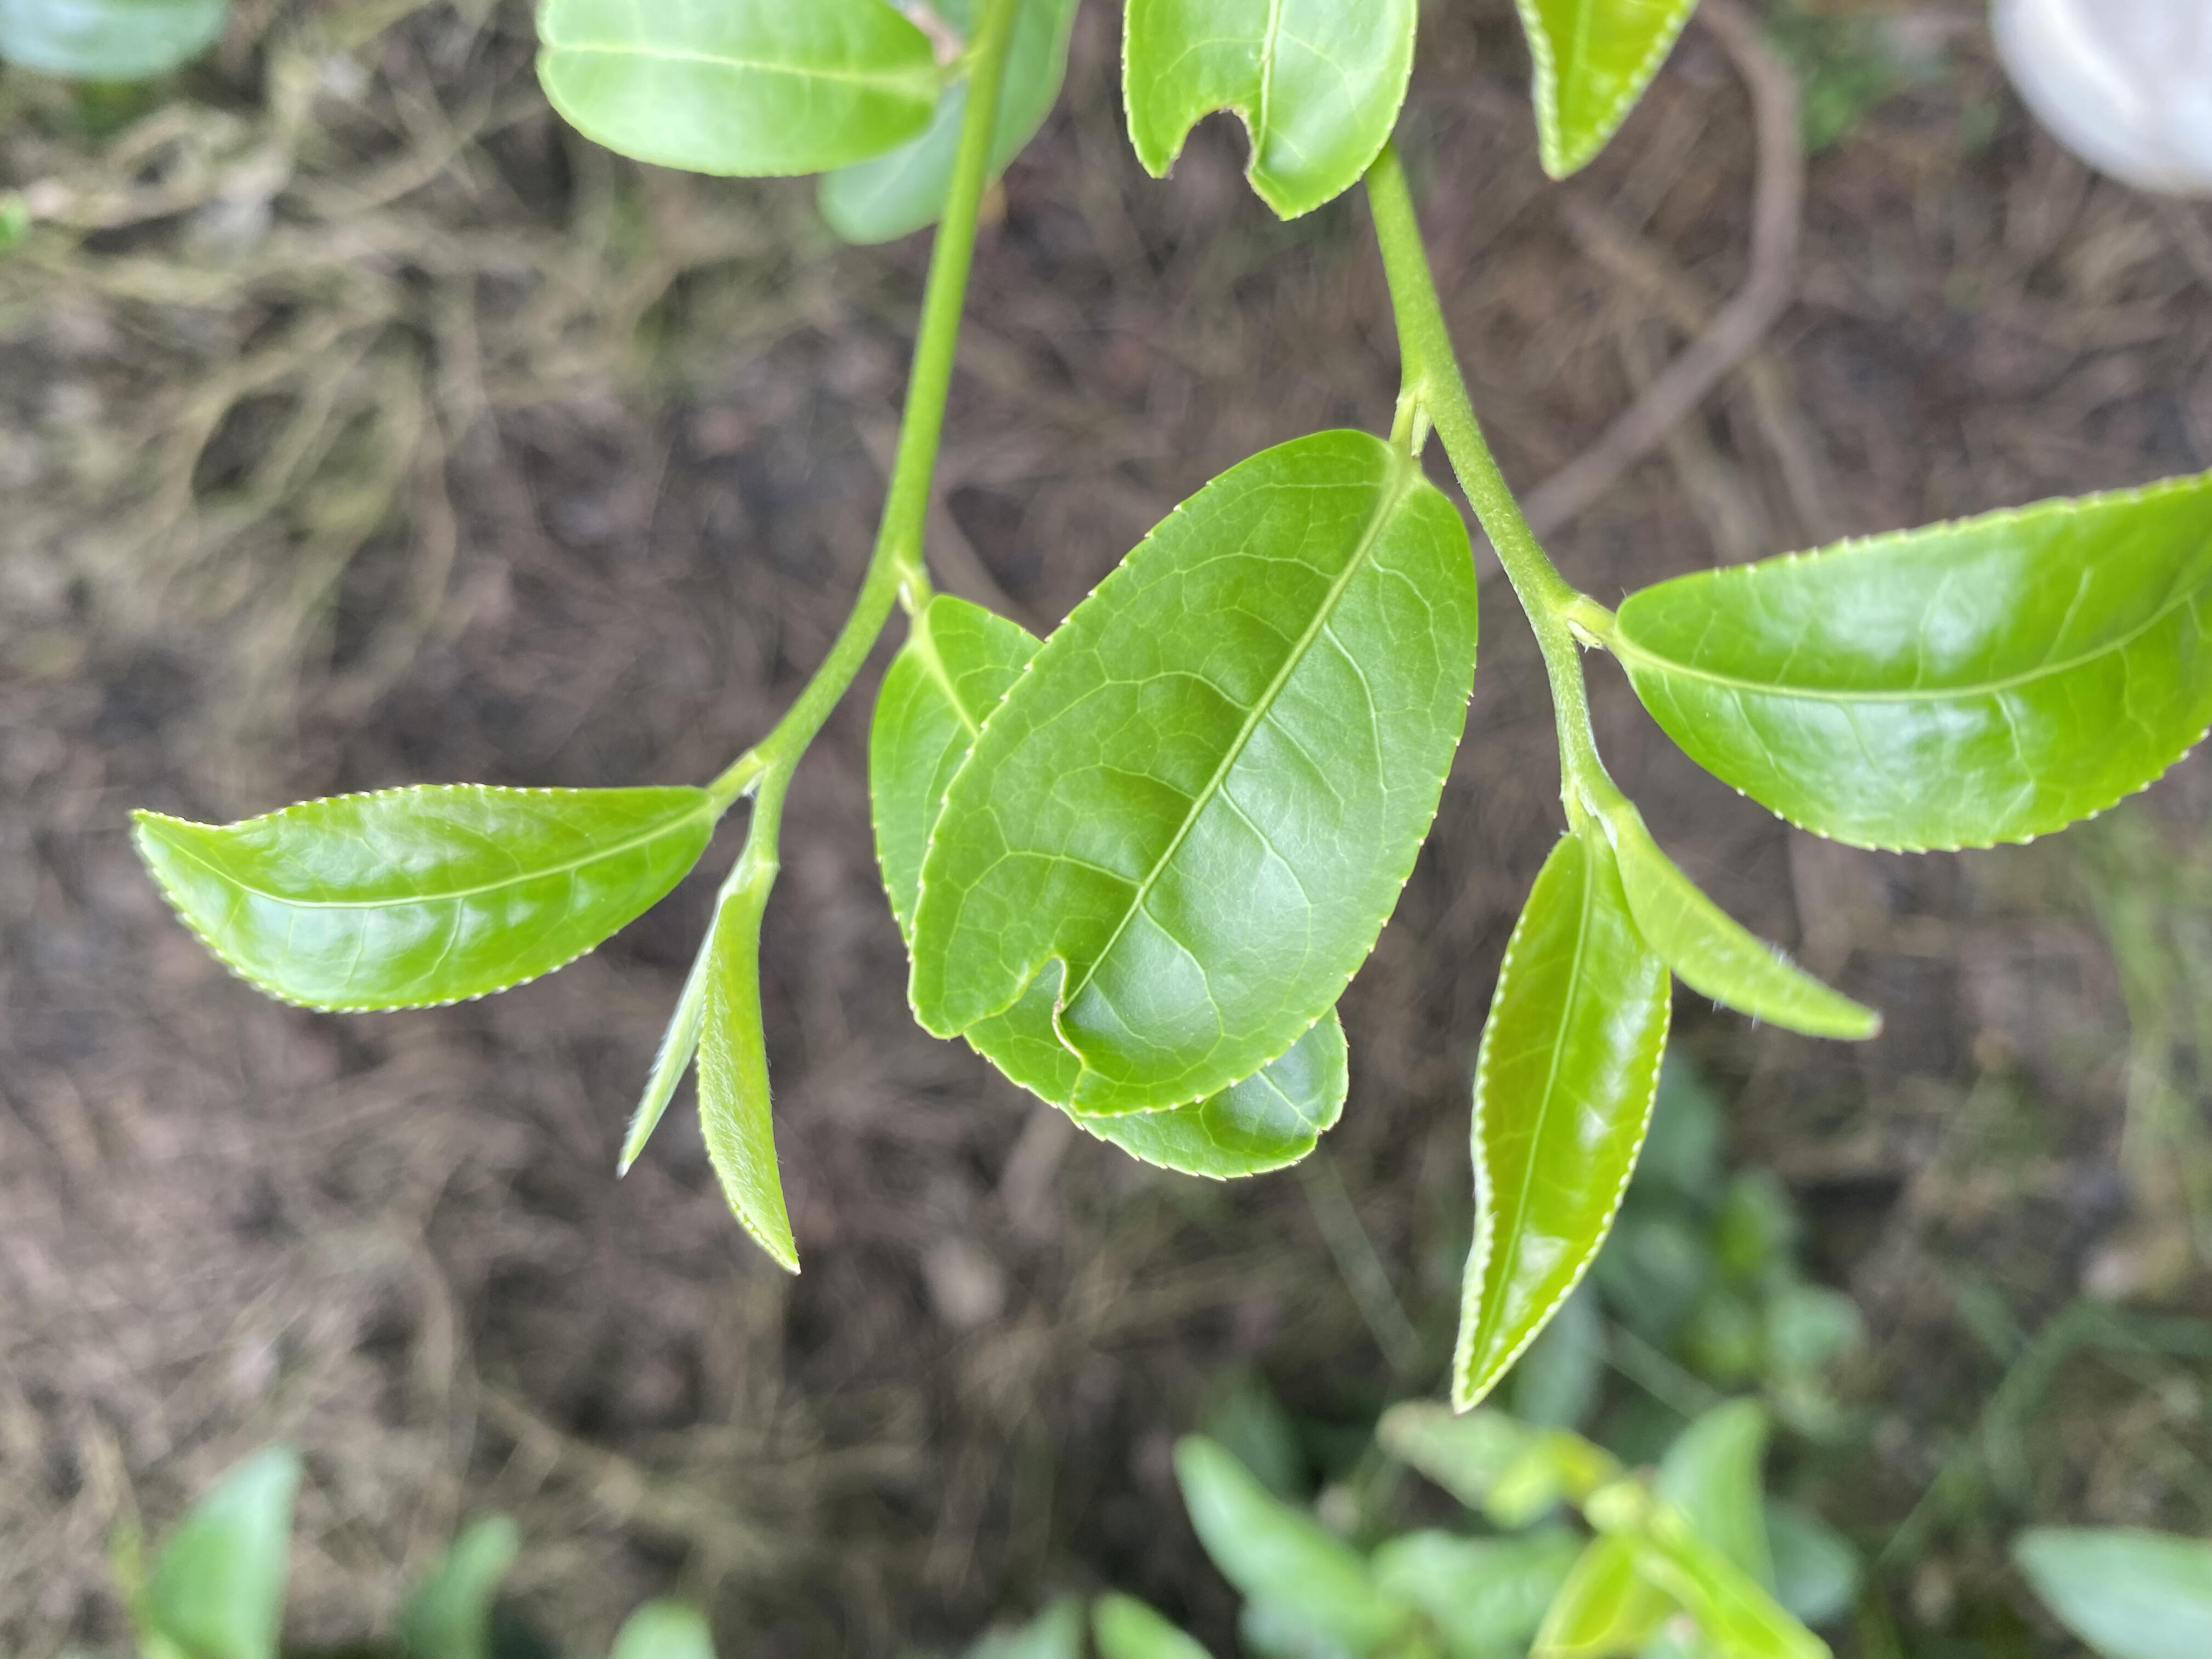chihuo_low: (909, 430, 1482, 1126), (1115, 2, 1425, 227)
healthy: (1615, 472, 2209, 857), (127, 779, 719, 1018), (1447, 836, 1674, 1413)
